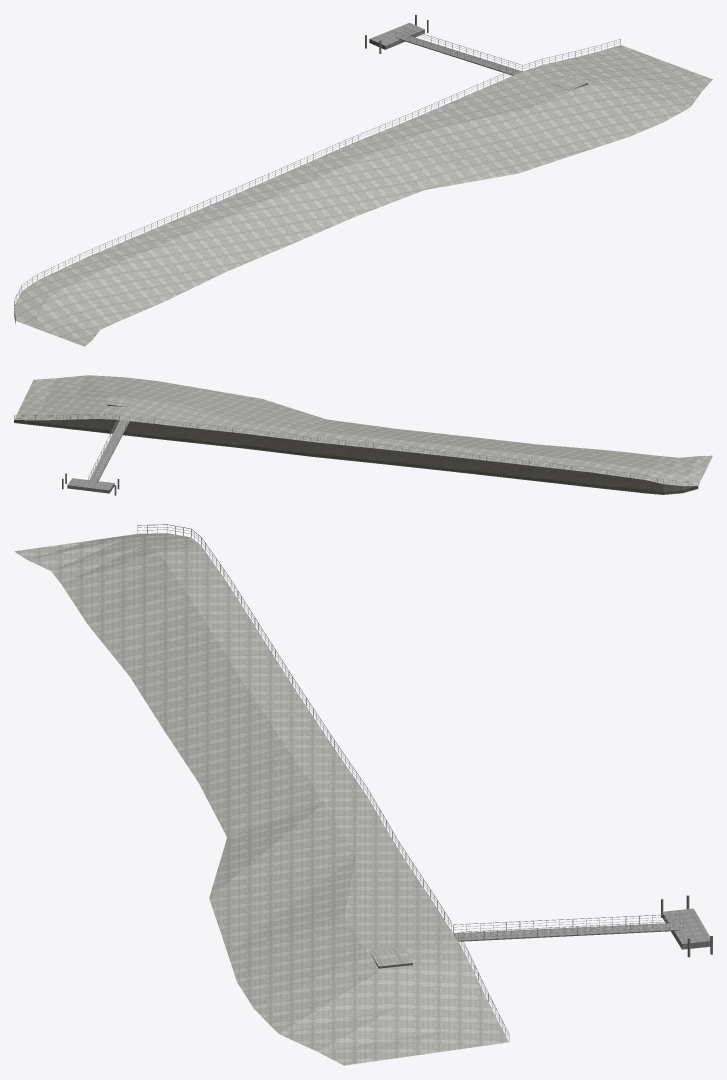
3 views of the same model, one above another, from view 1: azimuth 30°, elevation 25°; view 2: azimuth 150°, elevation 25°; view 3: azimuth 270°, elevation 25° (orthographic). The views are drawn at different scales.
Parts seen in each view (by area): view 1: Esplanade promenade paving, Esplanade quay rails, Esplanade landing deck; view 2: Esplanade promenade paving, Esplanade quay stone, Esplanade quay rails, Esplanade landing deck, Esplanade pontoon hull; view 3: Esplanade promenade paving, Esplanade quay rails, Esplanade landing deck, Esplanade pontoon hull.
Boxes of the visible parts, bbox=[...] form: Esplanade promenade paving: bbox=[14, 45, 712, 346]; Esplanade quay rails: bbox=[14, 28, 620, 320]; Esplanade landing deck: bbox=[370, 22, 522, 74]; Esplanade promenade paving: bbox=[14, 375, 712, 486]; Esplanade quay stone: bbox=[14, 404, 698, 494]; Esplanade quay rails: bbox=[14, 414, 698, 485]; Esplanade landing deck: bbox=[67, 420, 129, 490]; Esplanade pontoon hull: bbox=[62, 422, 129, 495]; Esplanade promenade paving: bbox=[14, 533, 508, 1065]; Esplanade quay rails: bbox=[137, 524, 683, 1041]; Esplanade landing deck: bbox=[454, 908, 710, 943]; Esplanade pontoon hull: bbox=[453, 895, 712, 957].
Bounding box in the file's own units: 144 × 4.5 × 79.8.
5 materials, 5 textured.
